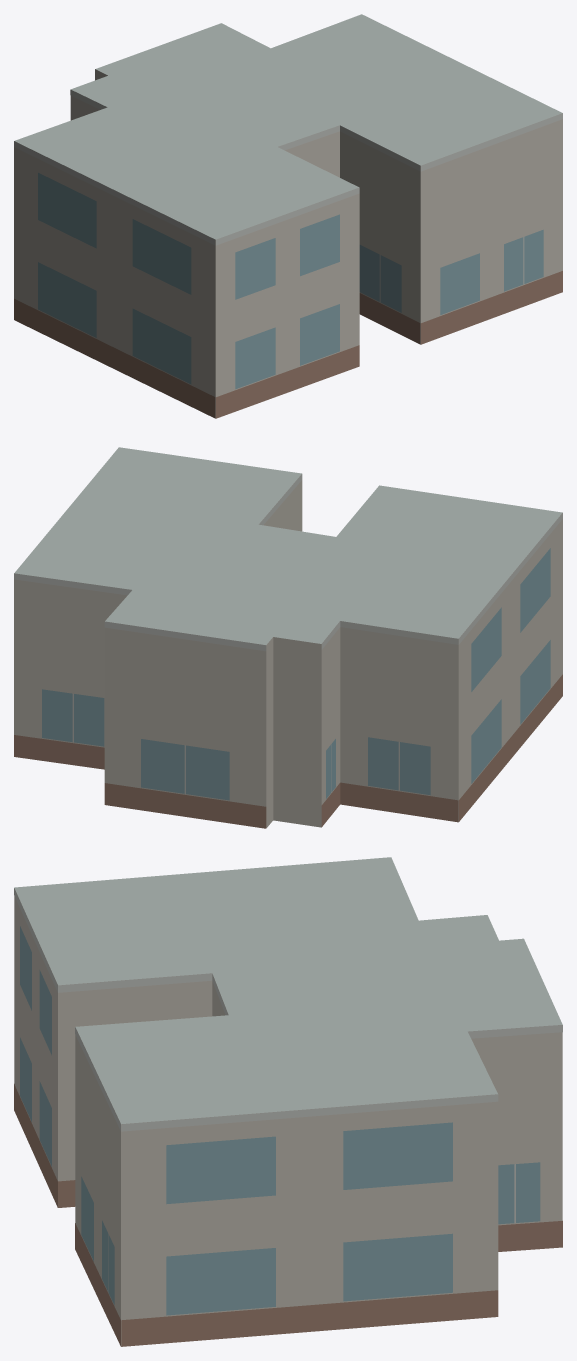
Rendered from survey-upis-32853185.glb.
The picture shows the model from 3 angles, top to bottom: view 1: azimuth 30°, elevation 25°; view 2: azimuth 150°, elevation 25°; view 3: azimuth 270°, elevation 25°; orthographic projection. The views are drawn at different scales.
Visible parts, largest first — view 1: survey-upis-32853185.tmp; view 2: survey-upis-32853185.tmp; view 3: survey-upis-32853185.tmp.
Part boxes in pixels (x1,y1,x2,y2): survey-upis-32853185.tmp: (14, 14, 562, 418); survey-upis-32853185.tmp: (14, 447, 562, 828); survey-upis-32853185.tmp: (14, 857, 562, 1346).
Size of the model in its own units: 18.69 by 7.26 by 16.23.
